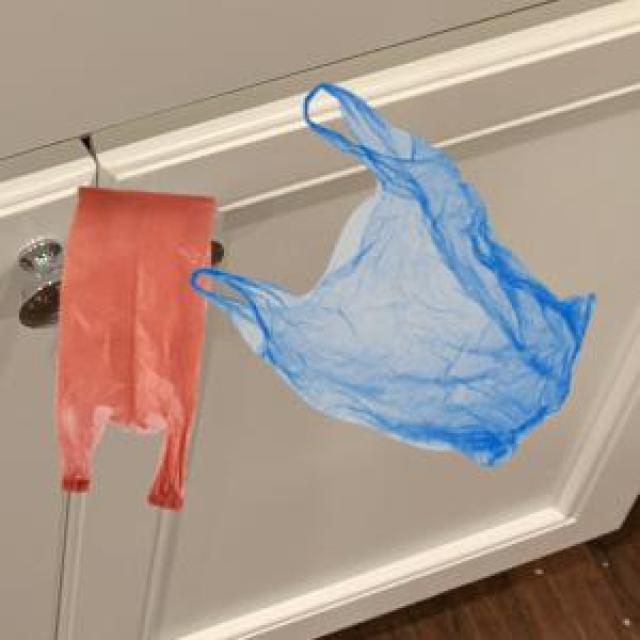waste: (191, 84, 595, 467), (56, 188, 214, 509)
